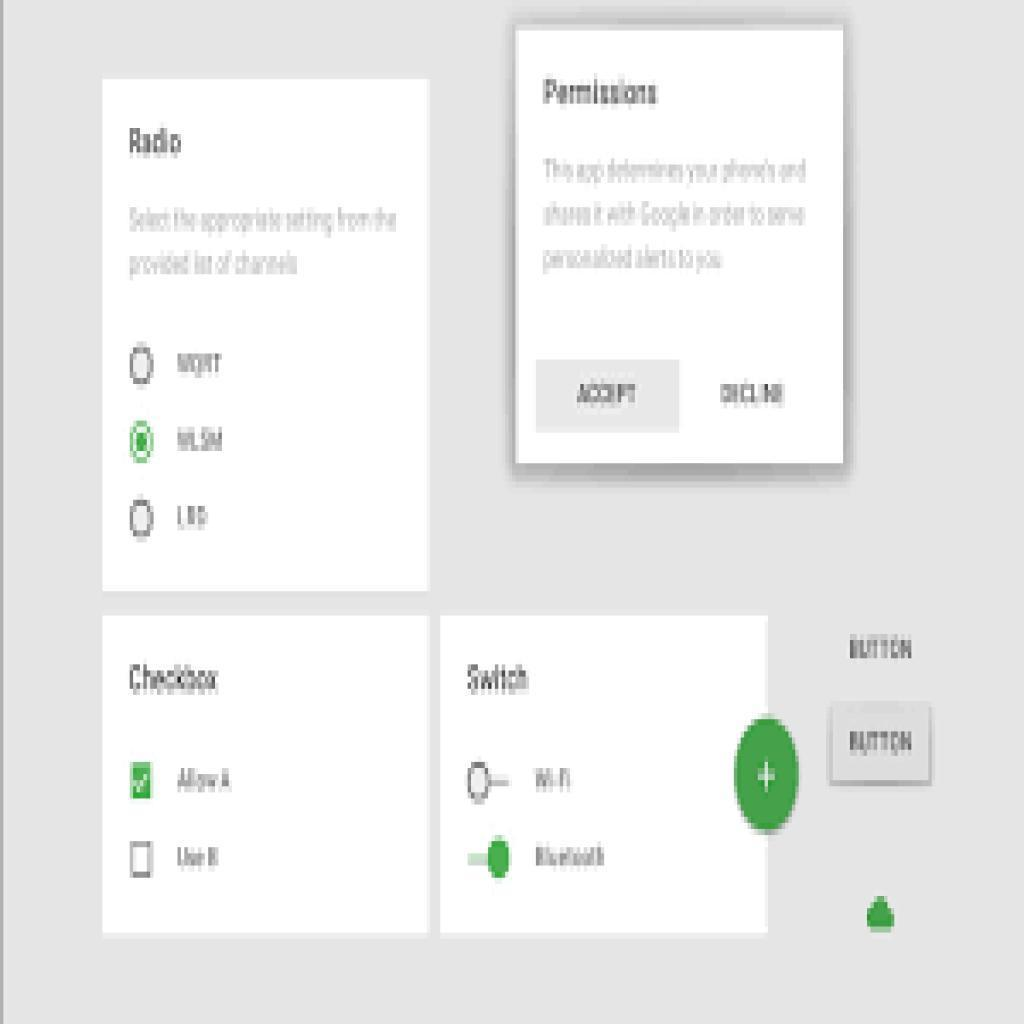button: (534, 359, 683, 437), (832, 705, 932, 785)
checkbox: (131, 761, 154, 801), (132, 841, 155, 878)
label: (714, 374, 795, 417)
radio: (130, 497, 158, 543), (130, 418, 155, 467), (131, 345, 159, 387)
switch: (465, 761, 520, 811), (464, 837, 513, 887)
